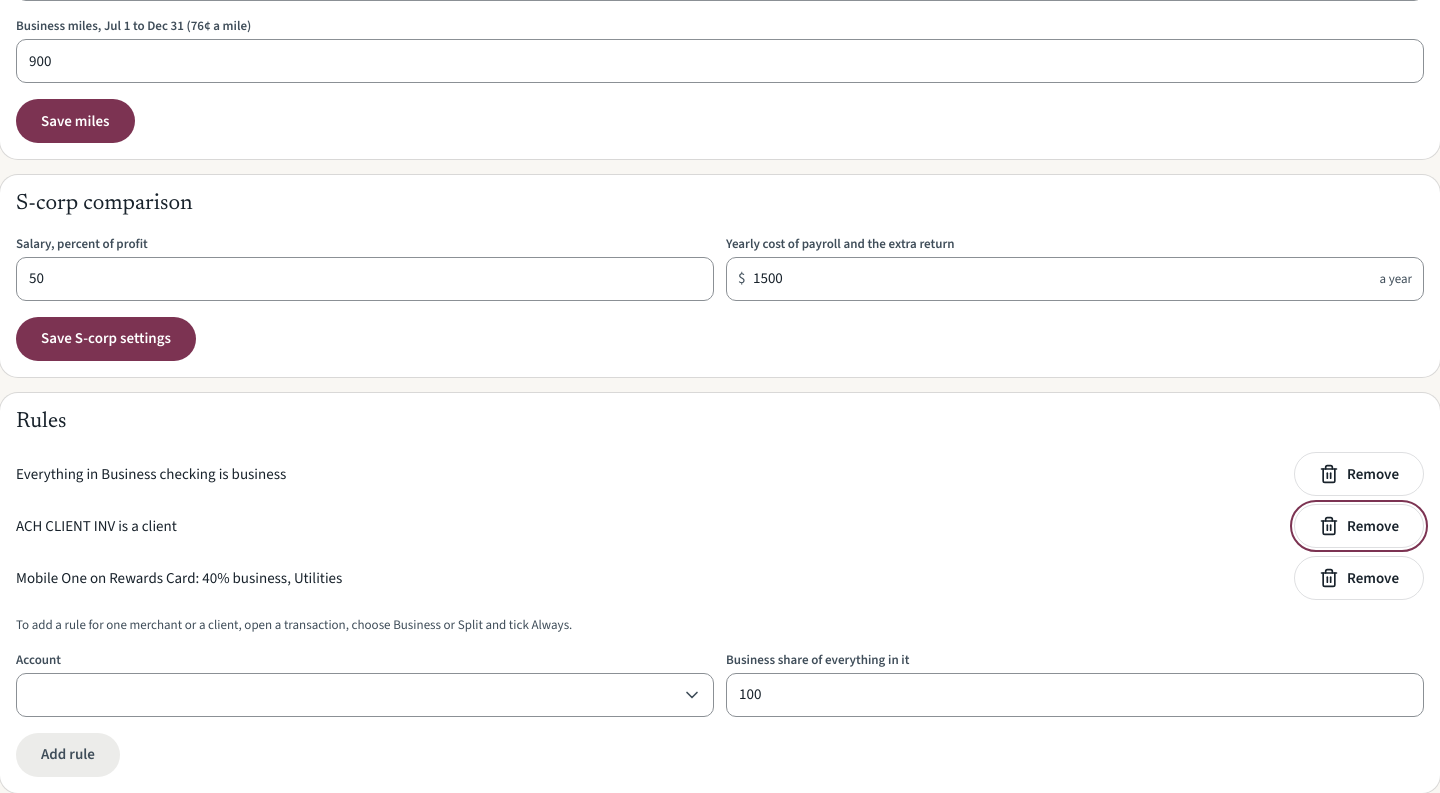
Test: Settings, Business › after removing a rule, says which and keeps focus on the rules, not the gone row (THO-1)
This screenshot has width=1440, height=793.
(page scrolled)
Click the button with aria-label "Remove rule: ACH CLIENT INV is a client": (1359, 526) [1294, 504, 1424, 548]
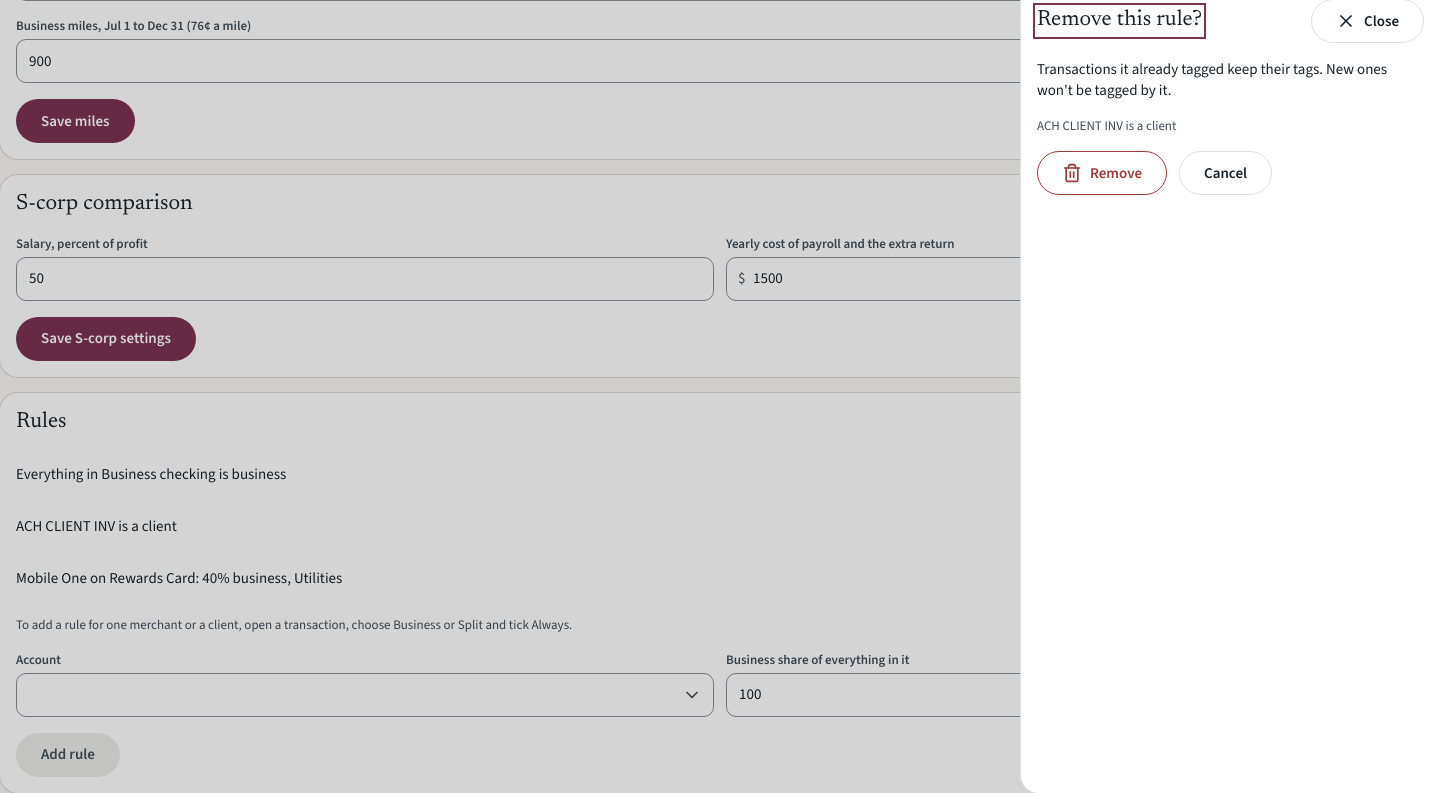
Click the button "Remove": (1102, 173) [1037, 151, 1167, 195]
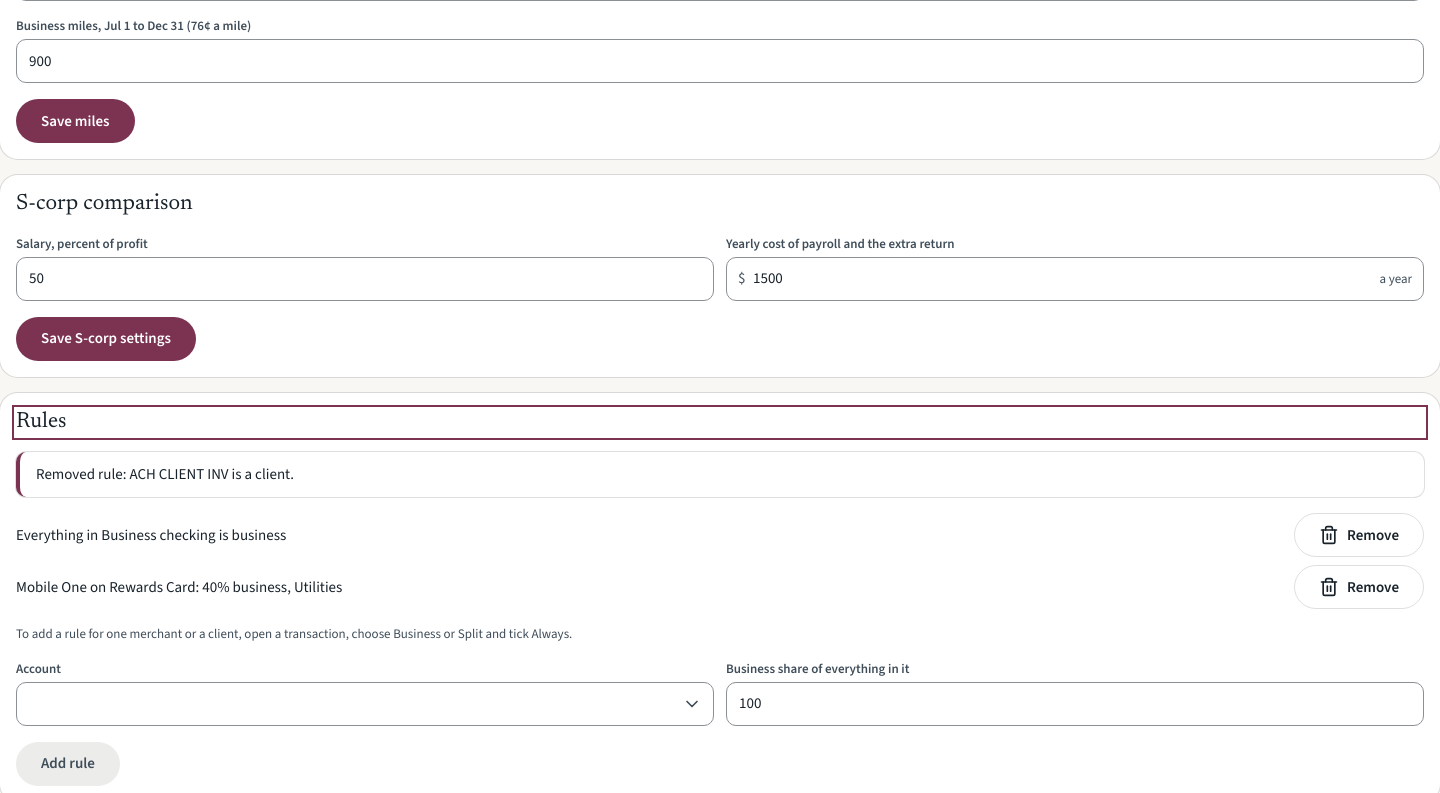
Check: the text "Removed rule: ACH CLIENT INV is a client." is shown, box [16, 452, 1424, 497]
